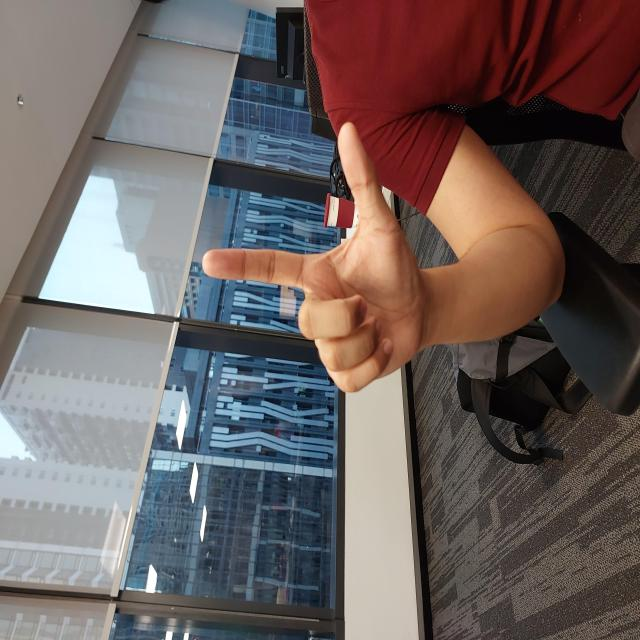L: (243, 199, 522, 430)
